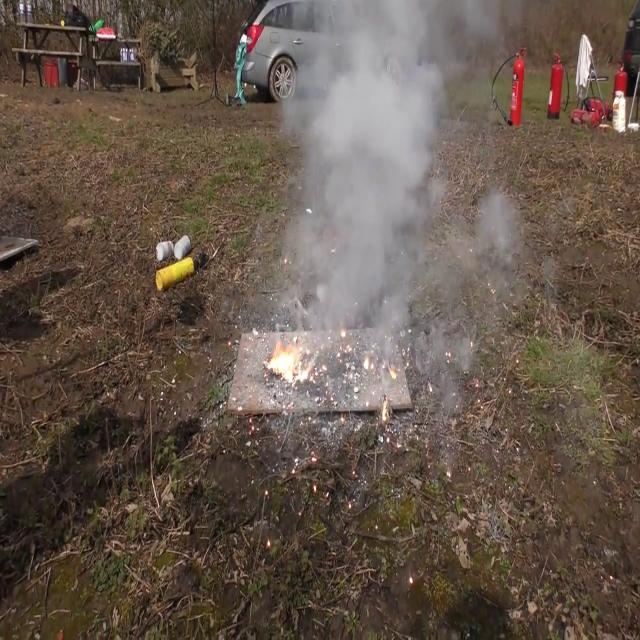Fire: (264, 334, 312, 386)
Smoke: (272, 0, 488, 393)
